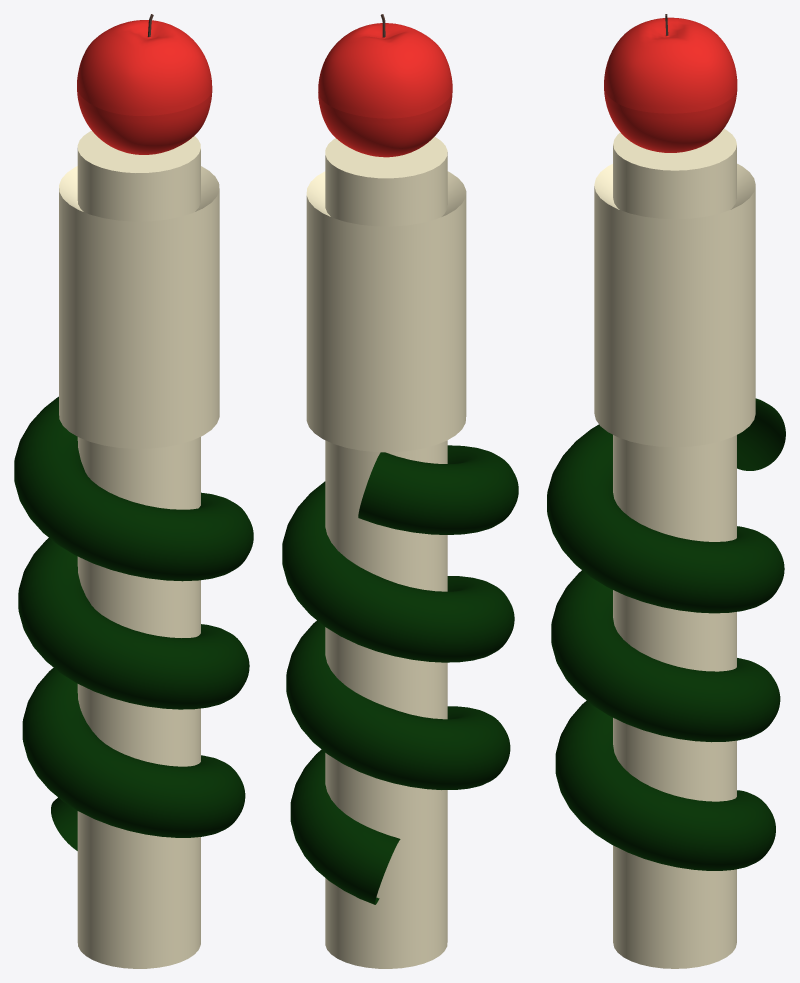
The model's file is Apple_pipe.fbx.
3 renders of one model, left to right at view 1: azimuth 30°, elevation 25°; view 2: azimuth 150°, elevation 25°; view 3: azimuth 270°, elevation 25°, orthographic.
Visible parts, largest first — view 1: Cylinder, Spiral; view 2: Cylinder, Spiral; view 3: Cylinder, Spiral.
Part boxes in pixels (bbox=[...]): Cylinder: bbox=[59, 14, 219, 968]; Spiral: bbox=[14, 396, 253, 850]; Cylinder: bbox=[306, 14, 466, 968]; Spiral: bbox=[282, 445, 518, 904]; Cylinder: bbox=[594, 14, 755, 968]; Spiral: bbox=[547, 398, 785, 870].
Bounding box in the file's own units: 1888 × 8102 × 1880.
